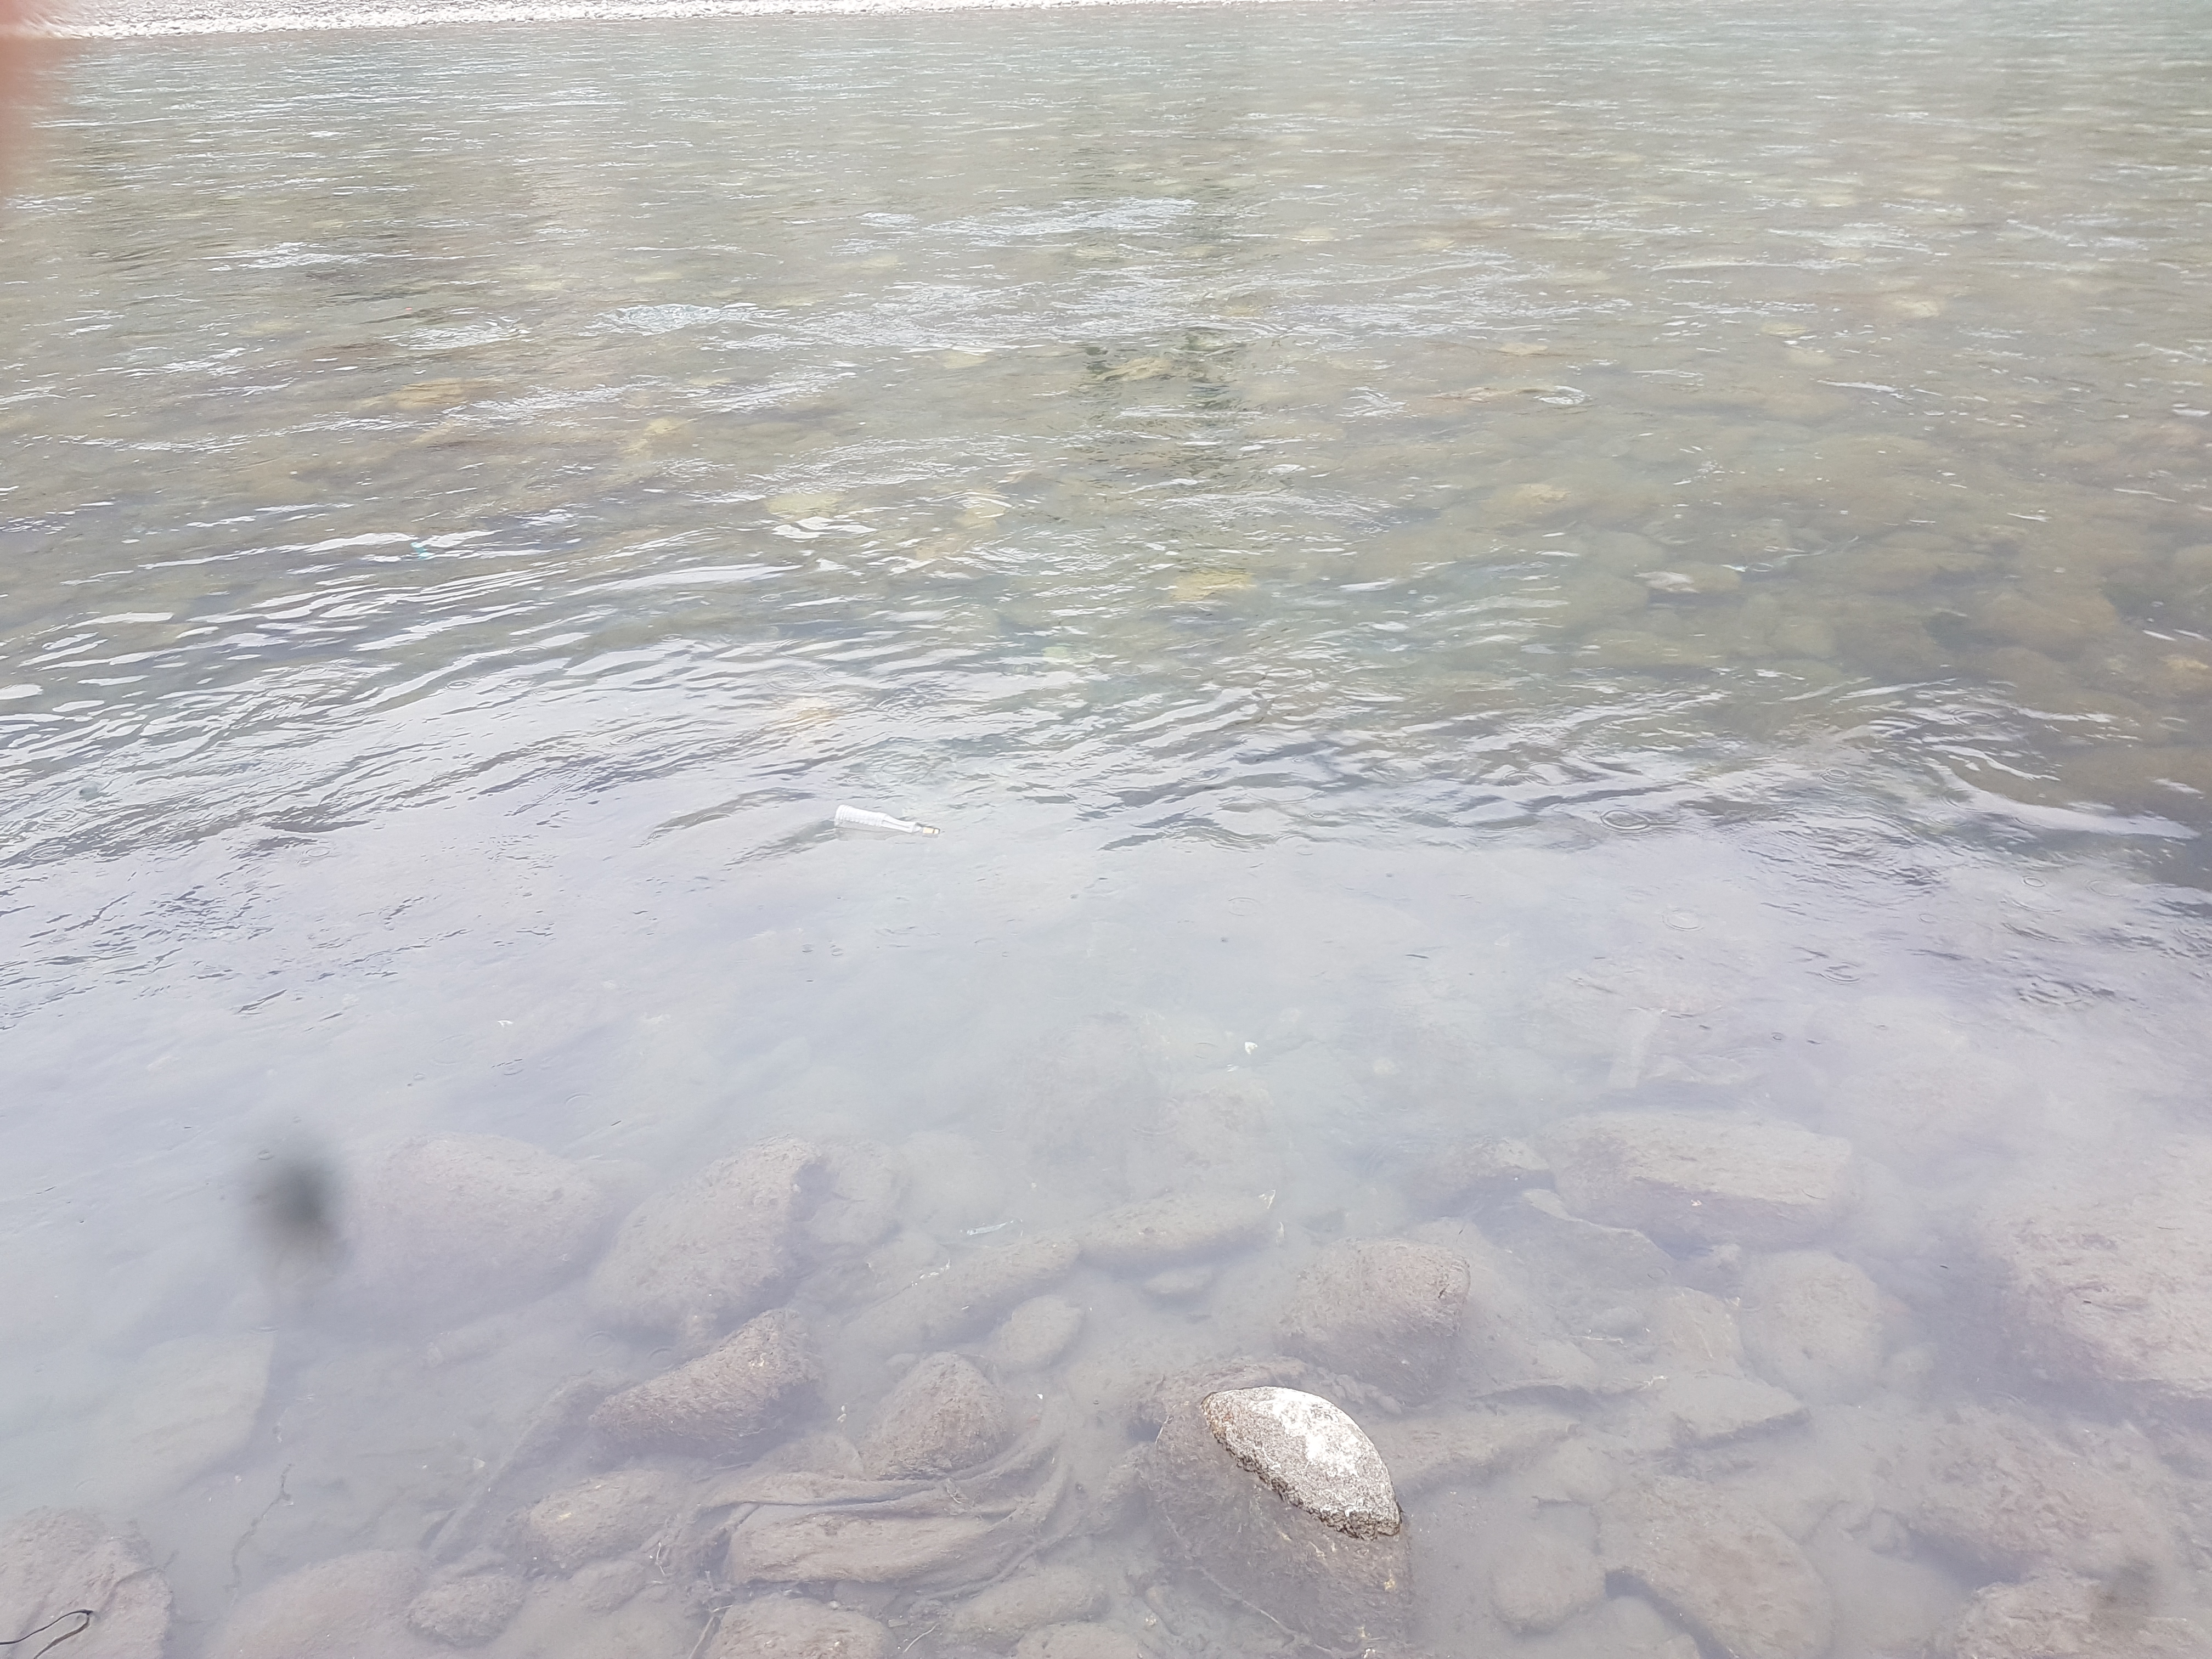Plastic Bottle: (833, 803, 941, 835)
